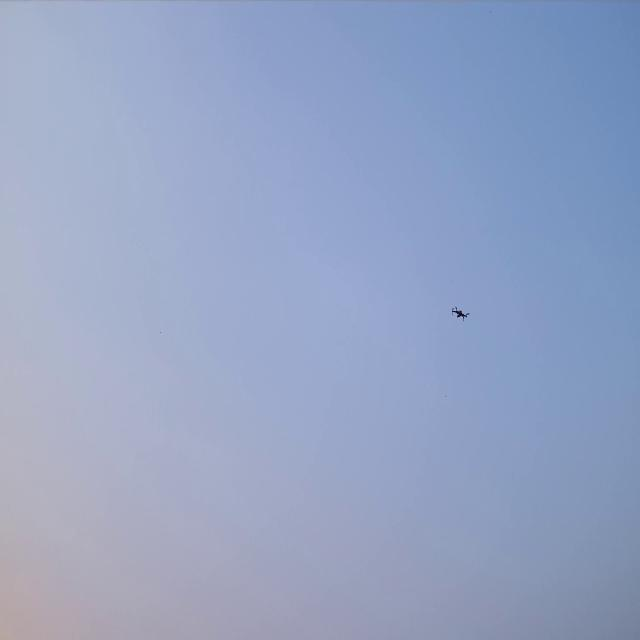UAV: (451, 304, 470, 322)
